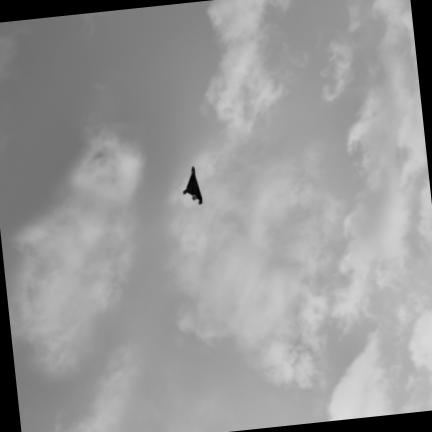Shahed: (184, 166, 202, 203)
